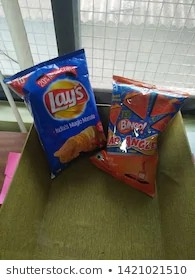lays-small: (4, 49, 104, 177)
